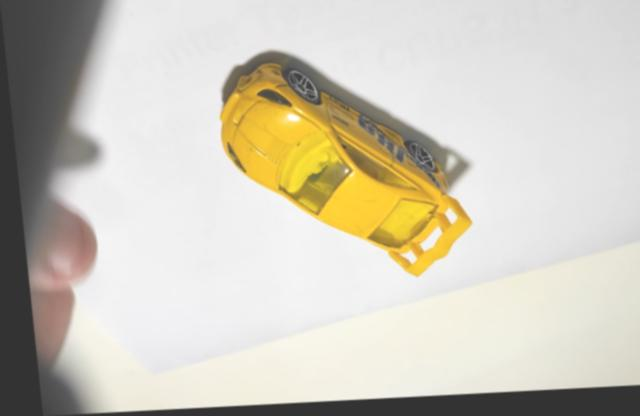07_RHLTURBO: (216, 58, 467, 280)
